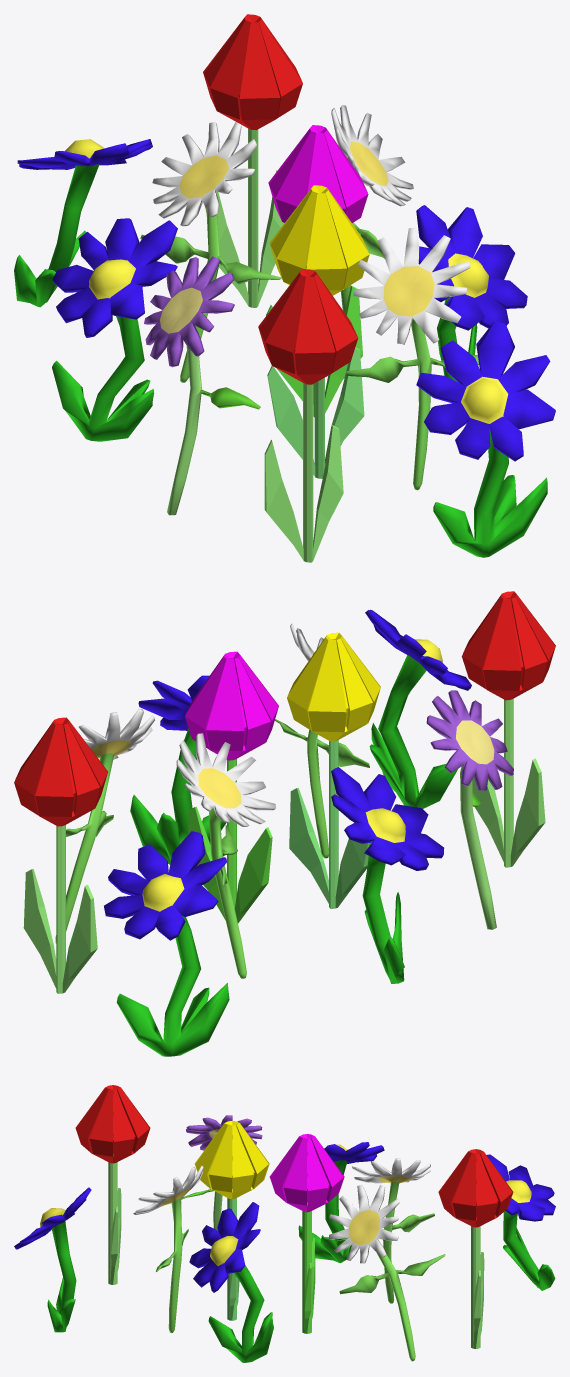
The model's file is Conjunto_De_Flores_LOD_002.fbx.
3 views of the same model, one above another, from view 1: azimuth 30°, elevation 25°; view 2: azimuth 150°, elevation 25°; view 3: azimuth 270°, elevation 25° (orthographic). The views are drawn at different scales.
Visible parts, largest first — view 1: Flor_Collec_002_LOD0; view 2: Flor_Collec_002_LOD0; view 3: Flor_Collec_002_LOD0.
Boxes of the visible parts, x1,y1,x2,y2 form: Flor_Collec_002_LOD0: (14,14,555,562); Flor_Collec_002_LOD0: (14,591,555,1056); Flor_Collec_002_LOD0: (14,1085,555,1362).
Size of what is drawn, in the model's own units: 296 by 223 by 535.
